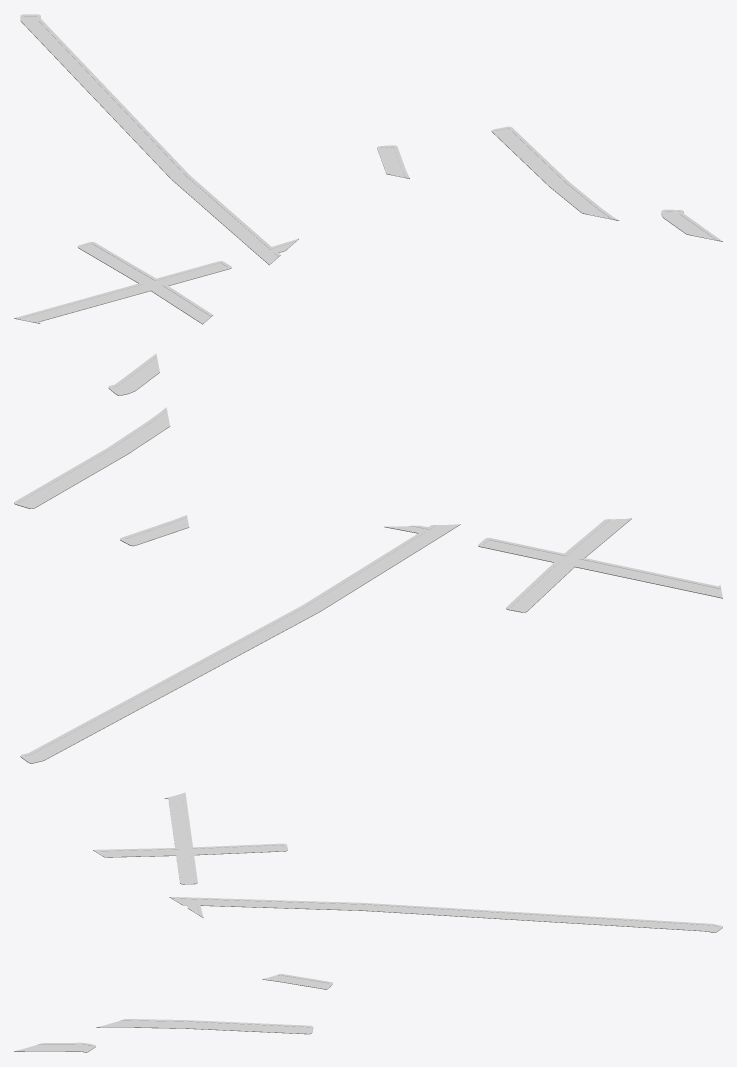
3 renders of one model, top to bottom at view 1: azimuth 30°, elevation 25°; view 2: azimuth 150°, elevation 25°; view 3: azimuth 270°, elevation 25°, orthographic. The views are drawn at different scales.
Visible parts, largest first — view 1: col_road, col_sidewalk, col_curb, sidewalk; view 2: col_road, col_sidewalk, col_curb, sidewalk; view 3: col_road, col_sidewalk, col_curb, sidewalk.
Part boxes in pixels (x1,y1,x2,y2): col_road: (19,16,715,321); col_sidewalk: (14,14,722,323); col_curb: (18,16,716,322); sidewalk: (14,21,722,324); col_road: (19,357,722,760); col_sidewalk: (14,353,722,762); col_curb: (18,356,721,761); sidewalk: (14,372,722,763); col_road: (20,793,718,1050); col_sidewalk: (15,792,722,1051); col_curb: (38,793,719,1050); sidewalk: (14,798,722,1052).
Bounding box in the file's own units: 386 × 0.32 × 445.
